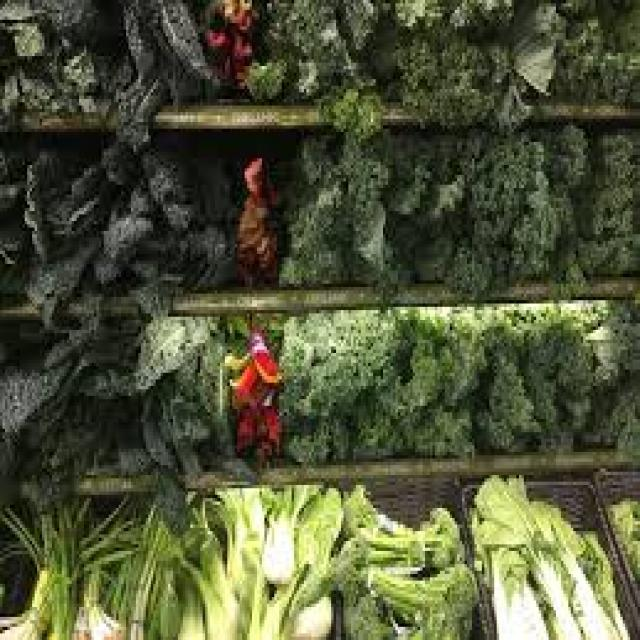organic waste: (267, 132, 393, 284), (457, 122, 571, 277), (512, 300, 596, 449), (0, 320, 89, 459), (77, 310, 220, 393), (364, 307, 479, 406), (460, 297, 536, 445), (173, 488, 245, 637), (571, 125, 637, 277), (576, 300, 638, 452), (276, 310, 371, 409), (208, 488, 270, 637), (192, 320, 250, 472), (220, 314, 279, 458), (257, 0, 341, 96), (558, 0, 638, 96), (388, 132, 472, 221), (114, 501, 168, 637), (146, 214, 240, 290), (376, 564, 472, 637), (5, 495, 96, 571), (242, 518, 299, 637), (20, 142, 79, 254), (136, 501, 183, 637), (230, 152, 282, 274), (158, 360, 208, 485), (262, 485, 321, 587), (486, 541, 548, 637), (0, 135, 37, 294), (20, 228, 91, 310), (467, 465, 534, 551), (558, 544, 618, 637), (381, 69, 492, 119), (326, 524, 425, 580), (37, 323, 146, 373), (50, 386, 116, 468), (67, 564, 141, 637), (400, 17, 487, 79), (136, 138, 198, 224), (344, 478, 420, 548), (292, 485, 338, 597), (504, 0, 561, 89), (583, 528, 628, 637), (143, 0, 210, 73), (277, 392, 351, 458), (398, 390, 472, 456), (524, 544, 576, 637), (40, 36, 109, 106), (341, 389, 410, 459), (52, 148, 109, 231), (76, 495, 138, 571), (0, 0, 96, 49), (390, 204, 450, 280), (0, 564, 62, 637), (131, 366, 175, 462), (484, 30, 526, 128), (217, 482, 267, 558), (536, 122, 588, 191), (208, 307, 284, 353), (408, 504, 460, 570), (42, 554, 82, 637), (111, 66, 161, 132), (321, 82, 381, 136), (116, 0, 158, 76), (338, 577, 391, 637), (600, 369, 638, 452), (190, 145, 230, 218), (422, 554, 477, 607), (435, 234, 487, 290), (529, 495, 578, 554), (0, 53, 47, 109), (606, 492, 638, 574), (370, 0, 398, 89), (282, 584, 328, 637), (442, 0, 512, 33), (175, 558, 202, 636), (153, 53, 195, 102), (121, 178, 156, 234), (99, 132, 138, 181), (124, 244, 170, 284), (336, 46, 371, 92), (336, 0, 373, 43), (195, 20, 232, 59), (213, 0, 252, 30), (397, 0, 442, 26), (89, 241, 121, 277), (104, 208, 133, 247), (99, 46, 133, 79), (250, 56, 282, 89), (220, 56, 249, 92), (37, 297, 67, 327), (232, 26, 255, 59)
